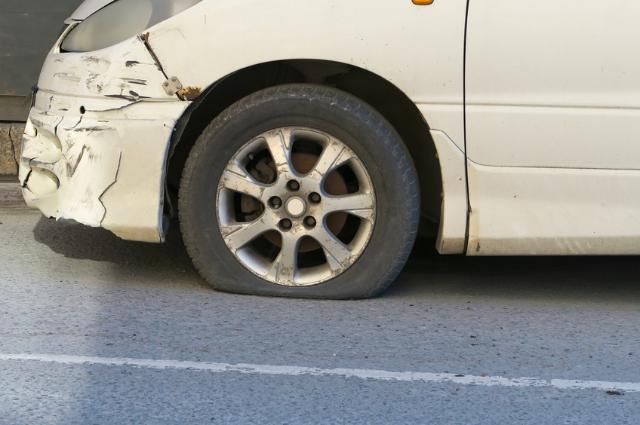Bumper: (0, 48, 183, 249)
